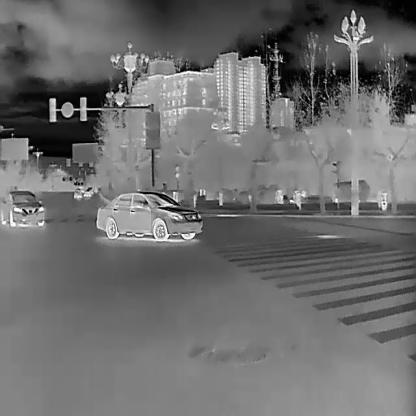car: (95, 190, 203, 241), (0, 190, 45, 228), (73, 188, 82, 200), (84, 188, 91, 197)
